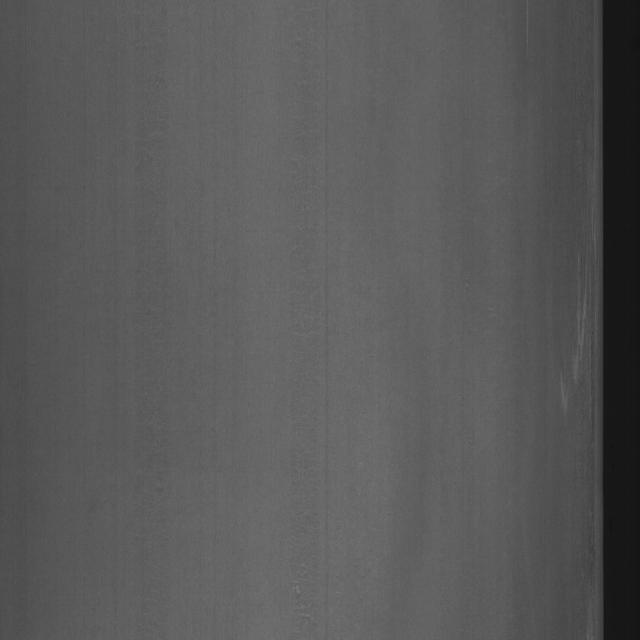inclusion: (538, 241, 596, 439)
